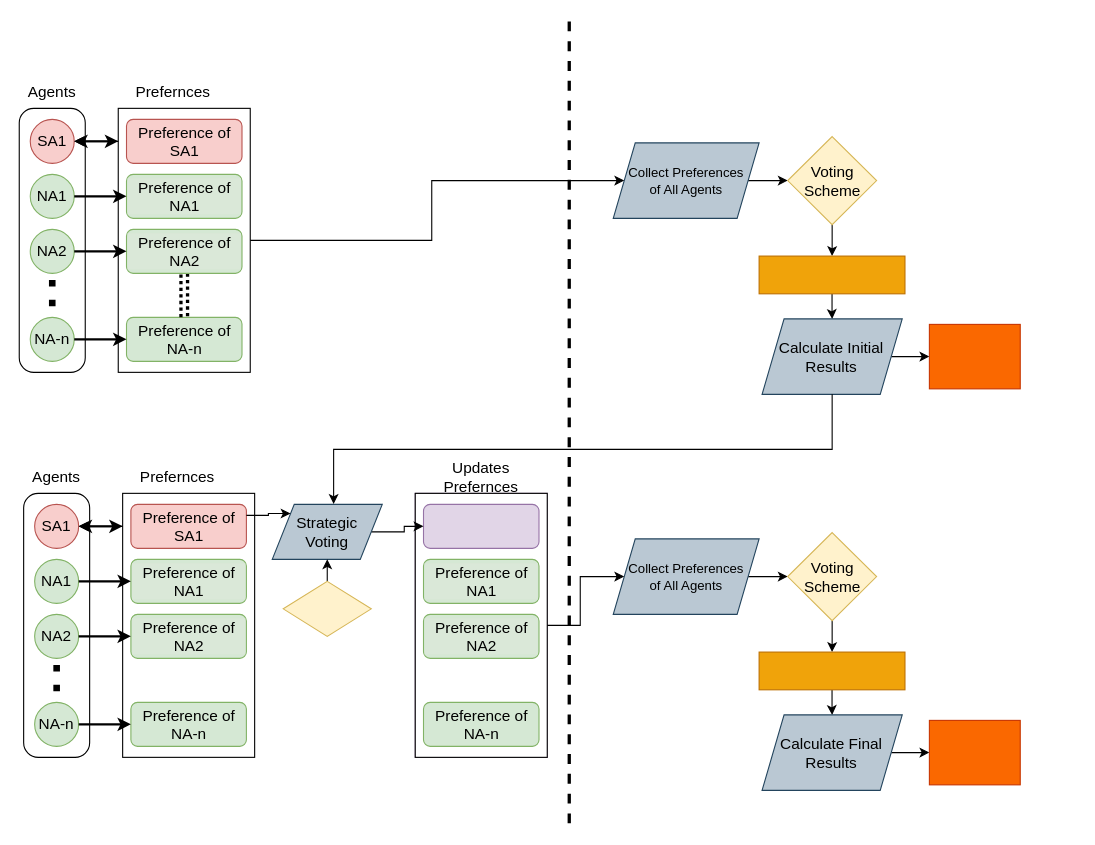
The diagram is 1095 pixels wide and 845 high, and some of its shapes have lost their labels. The shapes that lost their labels are listed below. From the top down, each one's centre as x and y in pixels, then its label:
the point at 831,274: Initial Votes
the point at 974,356: Initial Total Happiness
the point at 480,525: Modified Preference of SA1
the point at 326,608: Voting Strategy
the point at 831,670: Final Votes
the point at 974,752: Final Total Happiness
